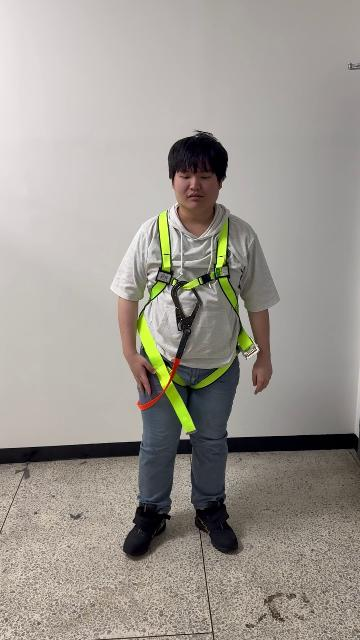helmet_not_worn: (169, 133, 231, 194)
shoe_worn: (191, 502, 242, 557), (123, 502, 170, 560)
vest_worn: (140, 208, 253, 391)
